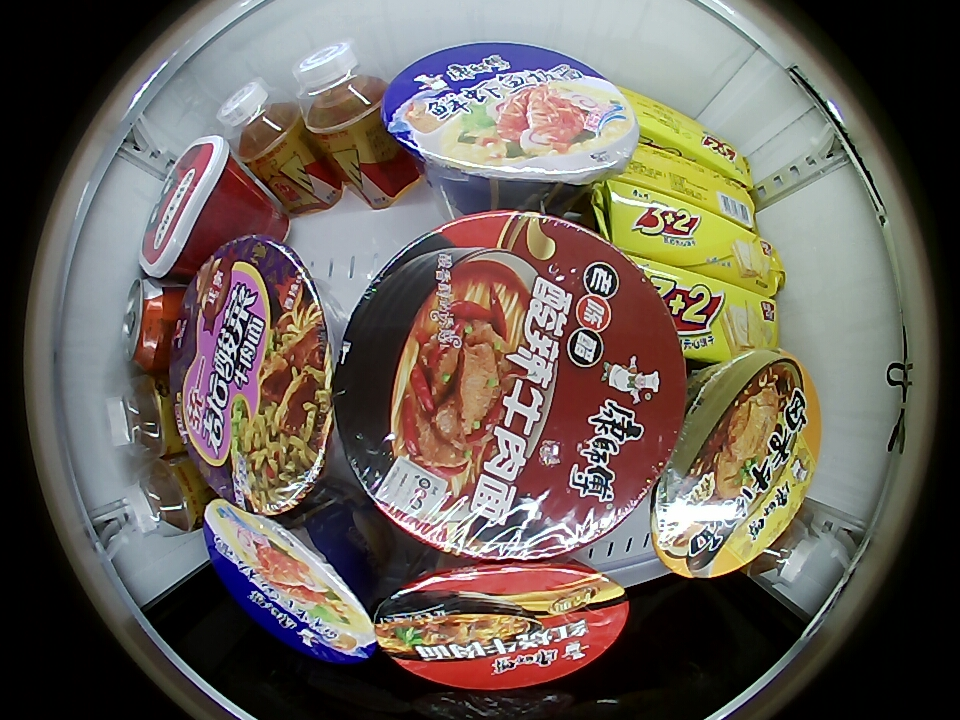3+2-2: (602, 192, 781, 294), (632, 270, 782, 362), (617, 145, 758, 226), (625, 91, 750, 181)
dongpeng-b: (293, 41, 388, 141), (217, 81, 302, 163), (122, 460, 198, 537), (105, 376, 174, 458), (748, 519, 820, 585)
hongshaoniurou: (373, 560, 630, 689)
jianlibao: (121, 278, 176, 371)
laotansuancai: (169, 236, 338, 515)
luxiangniurou: (650, 351, 821, 580)
niudufen: (140, 136, 241, 279)
suanlaniurou: (333, 210, 687, 562)
xianxiayuban: (382, 43, 638, 190), (202, 501, 379, 665)
